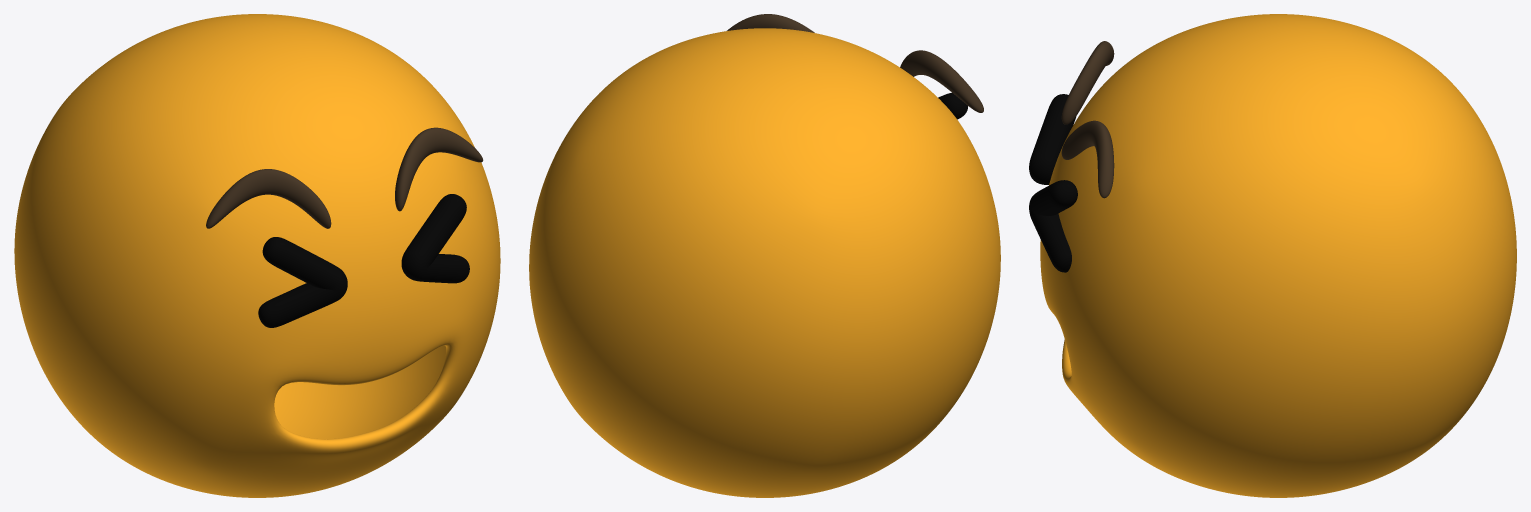
File: Laughter Face.glb
The picture shows the model from 3 angles, left to right: view 1: azimuth 30°, elevation 25°; view 2: azimuth 150°, elevation 25°; view 3: azimuth 270°, elevation 25°; orthographic projection. The views are drawn at different scales.
Visible parts, largest first — view 1: Cube, Vert.001, Cube.003_Cube.004; view 2: Cube, Cube.003_Cube.004; view 3: Cube, Vert.001, Cube.003_Cube.004.
Boxes of the visible parts, x1,y1,x2,y2 form: Cube: (14, 14, 500, 497); Vert.001: (258, 194, 469, 327); Cube.003_Cube.004: (206, 127, 483, 228); Cube: (529, 28, 1000, 497); Cube.003_Cube.004: (727, 14, 983, 112); Cube: (1040, 14, 1516, 497); Vert.001: (1029, 94, 1077, 272); Cube.003_Cube.004: (1061, 41, 1114, 198).
Size of the model in its own units: 1.66 by 1.66 by 1.7.
